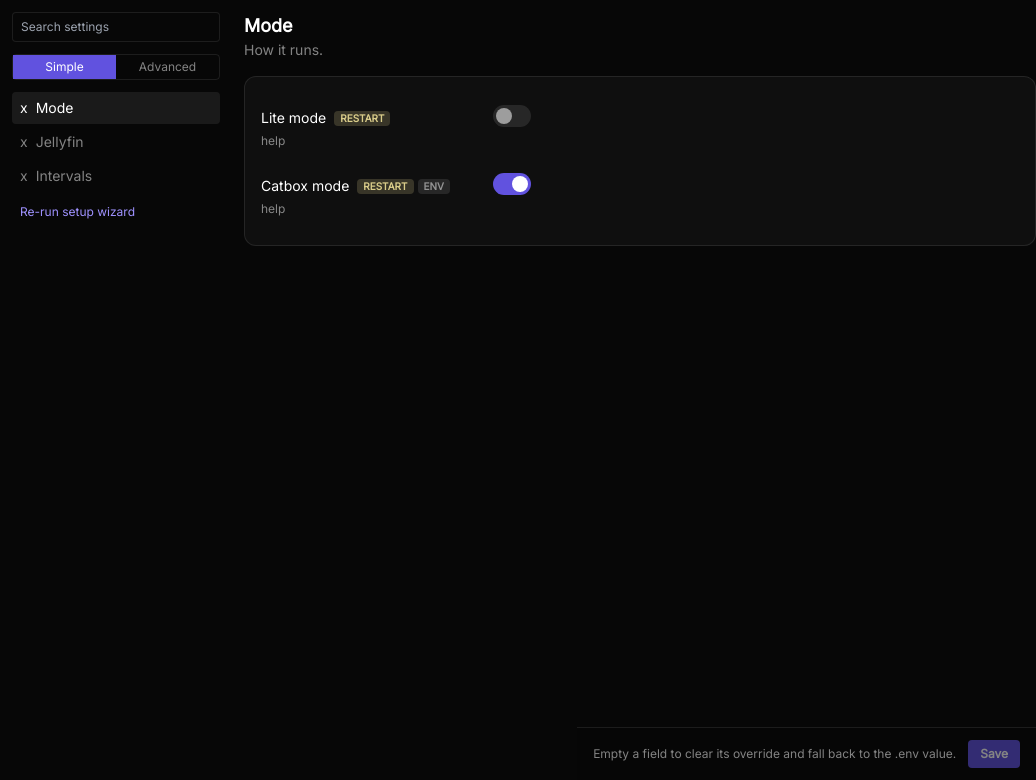
Test: Settings shell › Save starts disabled and enables after an edit
The width and height of the screenshot is (1036, 780).
Expected: the navigation bar named "Settings sections" is shown, [12,92,220,192]
Expected: the button "Save" is disabled, [968,740,1020,768]
Click the checkbox named "Catbox mode" at (512, 184), box [493,173,531,195]
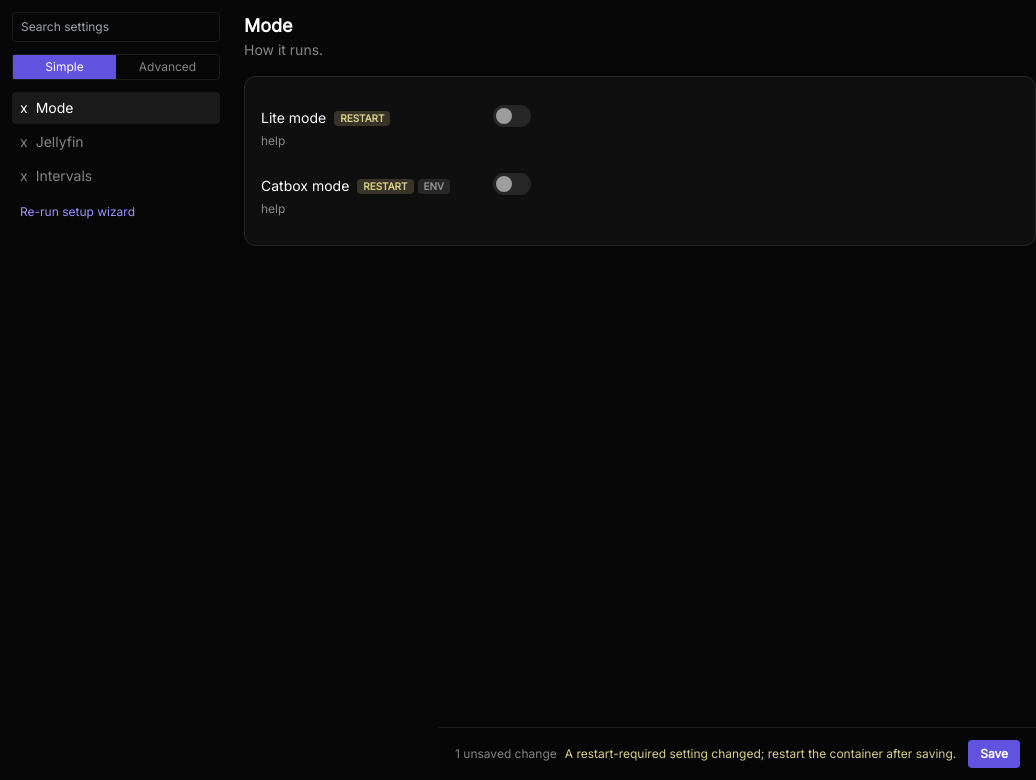
Now the button "Save" is enabled, box [968,740,1020,768]
